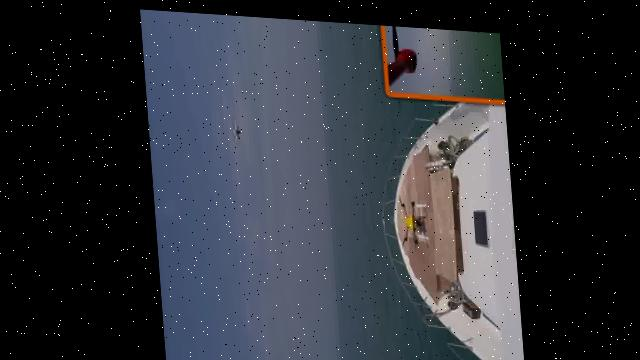drone: (381, 181, 430, 256), (220, 109, 243, 145)
